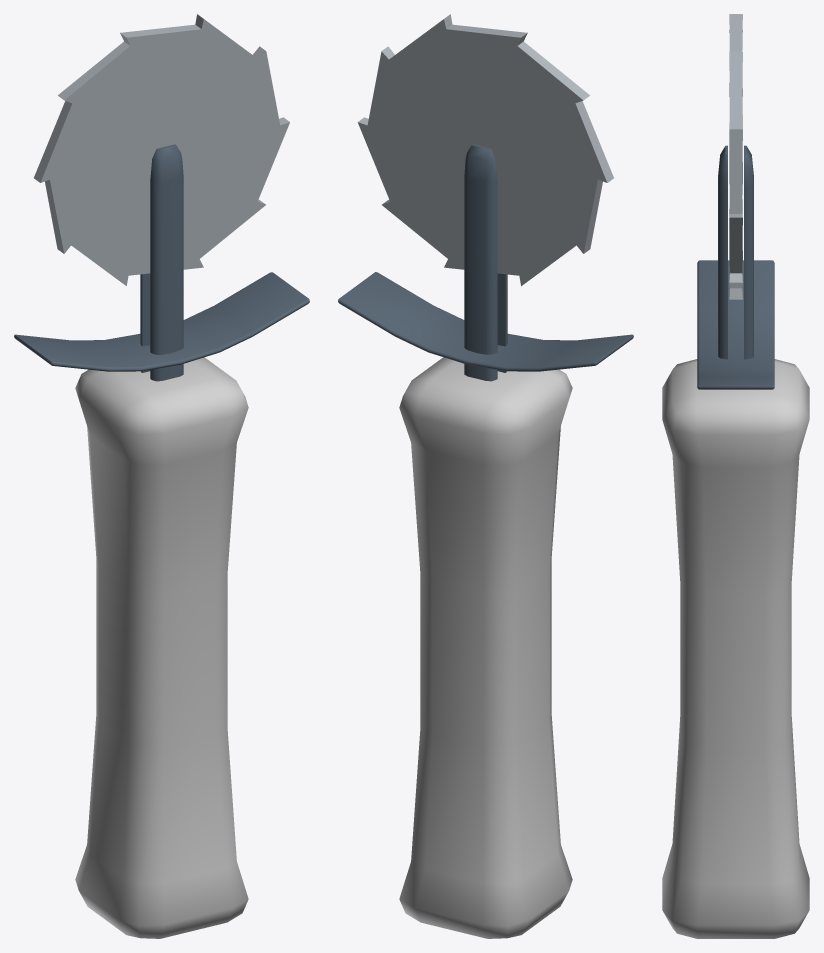
File: Pizza-Knife.fbx
3 renders of one model, left to right at view 1: azimuth 30°, elevation 25°; view 2: azimuth 150°, elevation 25°; view 3: azimuth 270°, elevation 25°, orthographic.
Visible parts, largest first — view 1: Pizza-Knife; view 2: Pizza-Knife; view 3: Pizza-Knife.
Boxes of the visible parts, left/top/right/bottom form: Pizza-Knife: left=14, top=14, right=309, bottom=938; Pizza-Knife: left=338, top=14, right=633, bottom=938; Pizza-Knife: left=662, top=14, right=809, bottom=938.
Bounding box in the file's own units: 0.0609 × 0.1997 × 0.03.
